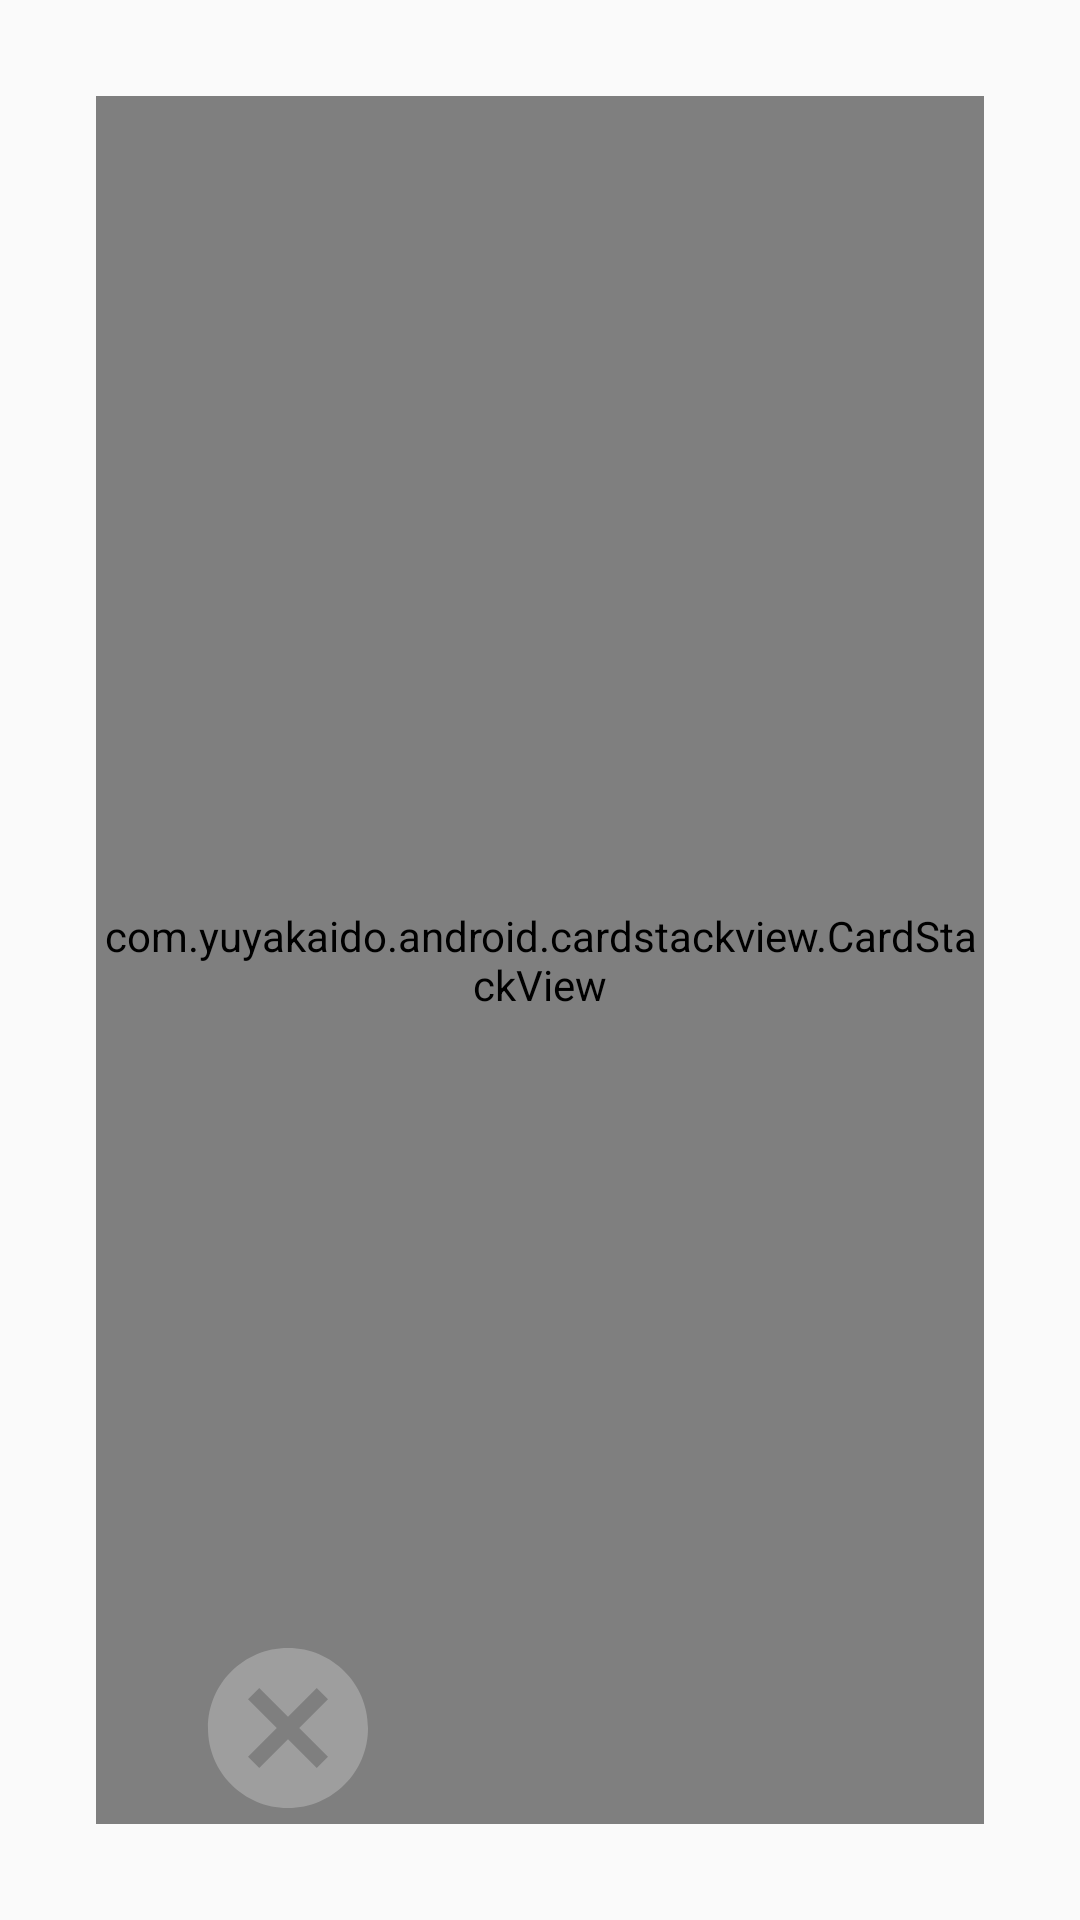

Where to tap for icons on this 1080×1920 app screen, as (x,y):
cancel: (288,1728)
